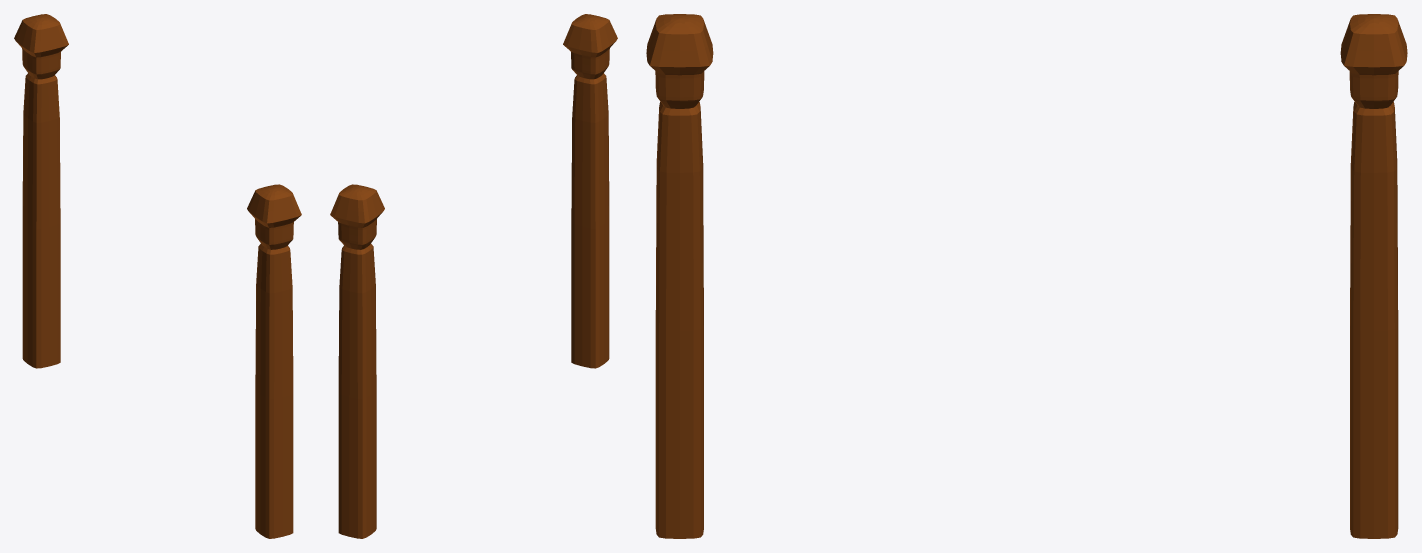
The model's file is foot_posts_001.FBX.
3 renders of one model, left to right at view 1: azimuth 30°, elevation 25°; view 2: azimuth 150°, elevation 25°; view 3: azimuth 270°, elevation 25°, orthographic. The views are drawn at different scales.
Parts seen in each view (by area): view 1: post_001; view 2: post_001; view 3: post_001.
Part boxes in pixels (x1,y1,x2,y2): post_001: (14,14,301,538); post_001: (330,14,617,538); post_001: (646,14,1407,538).
Bounding box in the file's own units: 0.0997 × 0.8391 × 1.13.
